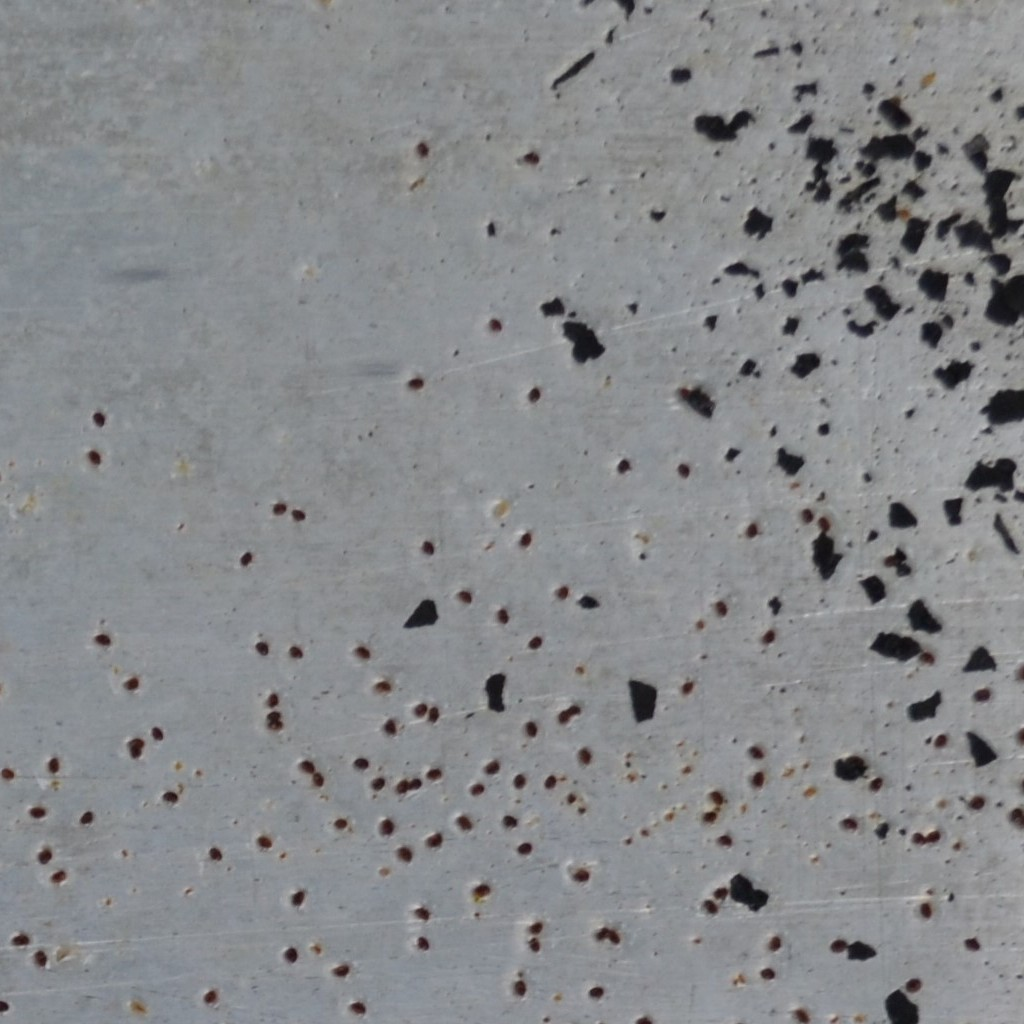varroa: (158, 786, 180, 811), (403, 374, 428, 395), (826, 935, 849, 957), (281, 941, 301, 966), (121, 670, 141, 695), (410, 139, 433, 159), (454, 811, 474, 834), (289, 886, 308, 910), (962, 933, 984, 953), (486, 314, 505, 337), (759, 626, 778, 649), (902, 975, 926, 993), (328, 962, 353, 979), (525, 633, 545, 654), (237, 549, 257, 570), (965, 792, 986, 812), (923, 826, 943, 847), (351, 643, 372, 663), (423, 830, 444, 850), (375, 817, 395, 838), (92, 629, 112, 650), (548, 583, 570, 602), (35, 845, 53, 868), (865, 774, 885, 794), (206, 843, 226, 863), (10, 929, 30, 949), (930, 731, 949, 752), (393, 845, 414, 864), (749, 768, 767, 790), (701, 897, 719, 919), (568, 867, 590, 885), (615, 456, 632, 479), (522, 919, 545, 936), (369, 774, 386, 797), (33, 947, 50, 970), (426, 702, 441, 728), (481, 757, 500, 777), (467, 780, 487, 799), (413, 933, 432, 953), (295, 757, 315, 776), (346, 1000, 367, 1018), (47, 752, 61, 779), (790, 1005, 812, 1022), (501, 809, 518, 831), (370, 678, 393, 694), (524, 385, 543, 404), (455, 588, 474, 607), (255, 831, 274, 850), (309, 770, 327, 790), (798, 505, 815, 526), (89, 408, 106, 429), (411, 905, 432, 922), (201, 984, 218, 1005), (768, 933, 783, 956), (85, 448, 103, 467), (511, 771, 529, 790), (511, 977, 529, 996), (473, 880, 491, 899), (253, 638, 271, 657), (744, 520, 761, 540), (699, 808, 719, 825), (393, 776, 410, 796), (50, 868, 70, 885), (715, 831, 736, 847), (423, 765, 444, 781), (26, 804, 47, 820), (837, 817, 859, 832), (757, 967, 779, 982), (542, 770, 557, 792), (149, 722, 164, 744), (674, 460, 692, 478), (269, 500, 288, 517), (916, 901, 933, 920), (747, 744, 764, 763), (411, 699, 428, 718), (380, 717, 399, 734), (518, 529, 534, 549), (419, 538, 435, 558), (707, 789, 727, 805), (350, 754, 370, 770), (290, 508, 308, 525), (908, 828, 924, 847), (714, 598, 730, 617), (523, 719, 539, 738), (587, 983, 606, 999), (526, 936, 542, 955), (1008, 807, 1023, 827), (816, 515, 831, 534), (515, 841, 534, 856), (266, 719, 285, 734), (125, 736, 145, 750), (608, 927, 621, 948), (919, 650, 935, 667), (265, 689, 279, 708), (265, 708, 285, 721), (495, 607, 510, 624), (555, 708, 570, 725), (407, 777, 424, 792), (287, 645, 304, 660), (79, 810, 94, 827), (330, 816, 348, 830), (578, 747, 591, 766), (593, 924, 607, 941), (0, 993, 10, 1016), (128, 745, 142, 761), (0, 767, 14, 782), (568, 705, 584, 717)
